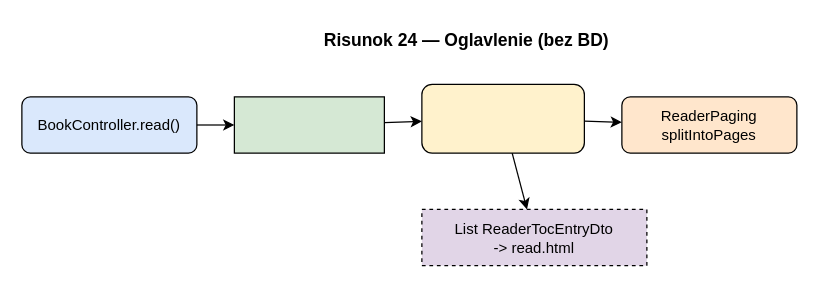
Some shapes in this 819 by 288 pixel diagram are drawn without their labels. Each missing label, with the box of its shape:
BookRepository book.text: (233, 96, 384, 153)
ReaderToc.build(): (421, 83, 584, 153)
